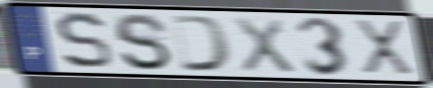3: (295, 15, 350, 78)
D: (169, 13, 235, 74)
S: (111, 11, 175, 73), (52, 10, 116, 72)
X: (352, 17, 418, 79), (231, 15, 298, 76)
